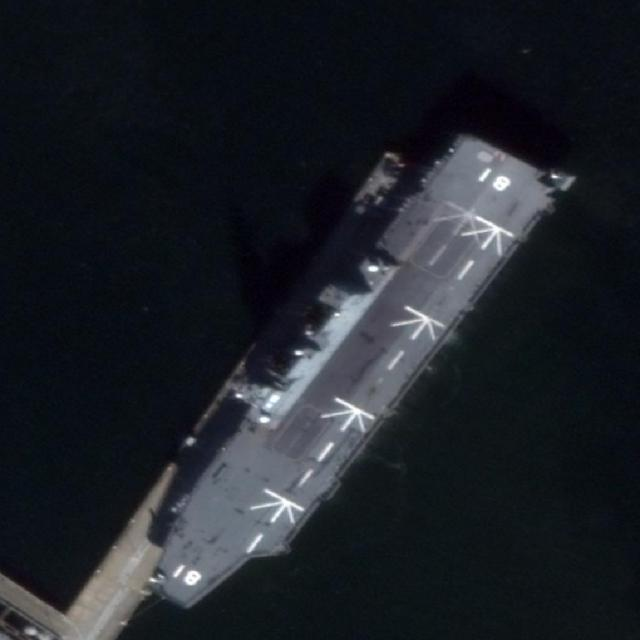Destroyer: (125, 109, 571, 636)
